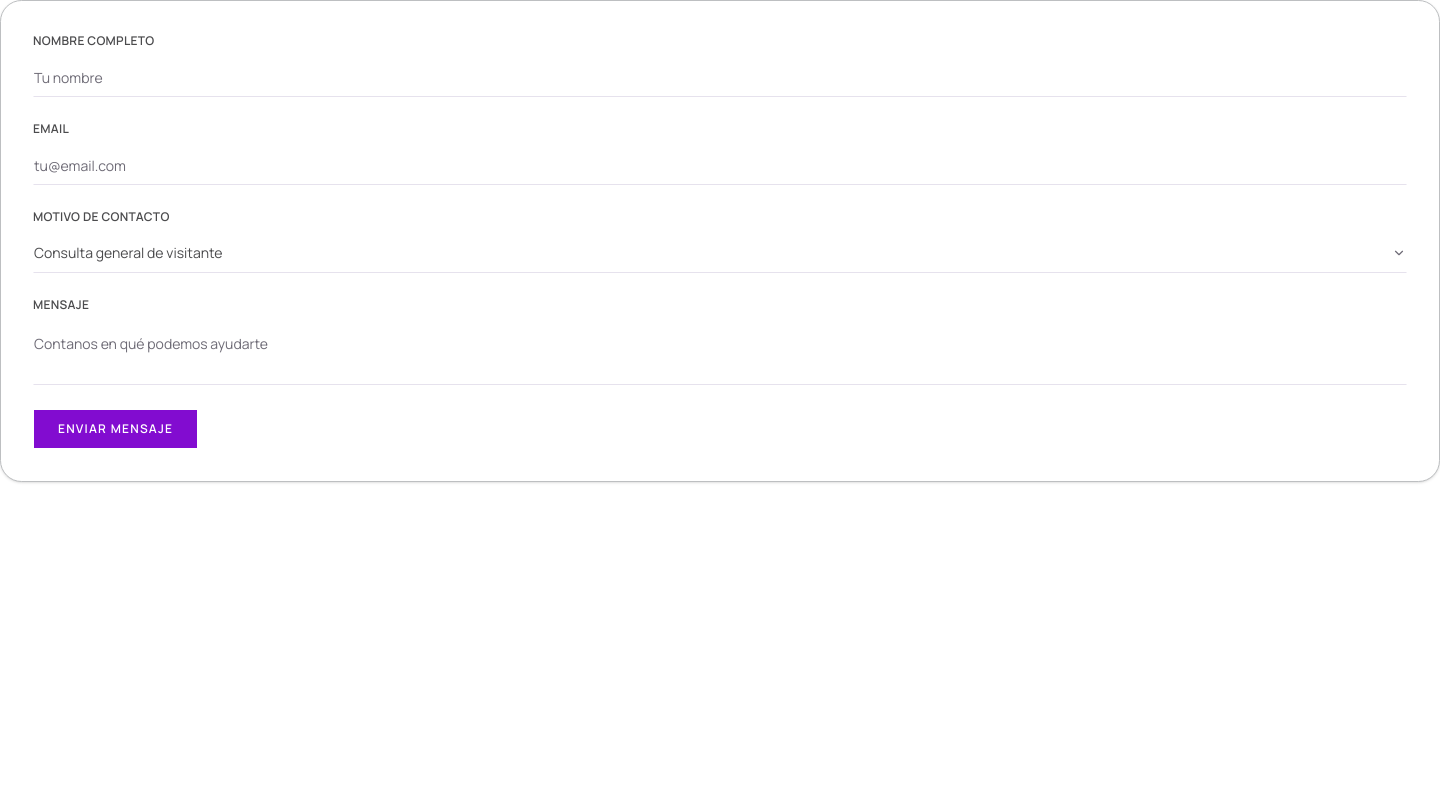
it: ContactForm › should display validation error messages when submitting empty form
Click the button "Enviar mensaje": [116, 429] box x1=33 y1=409 x2=198 y2=449
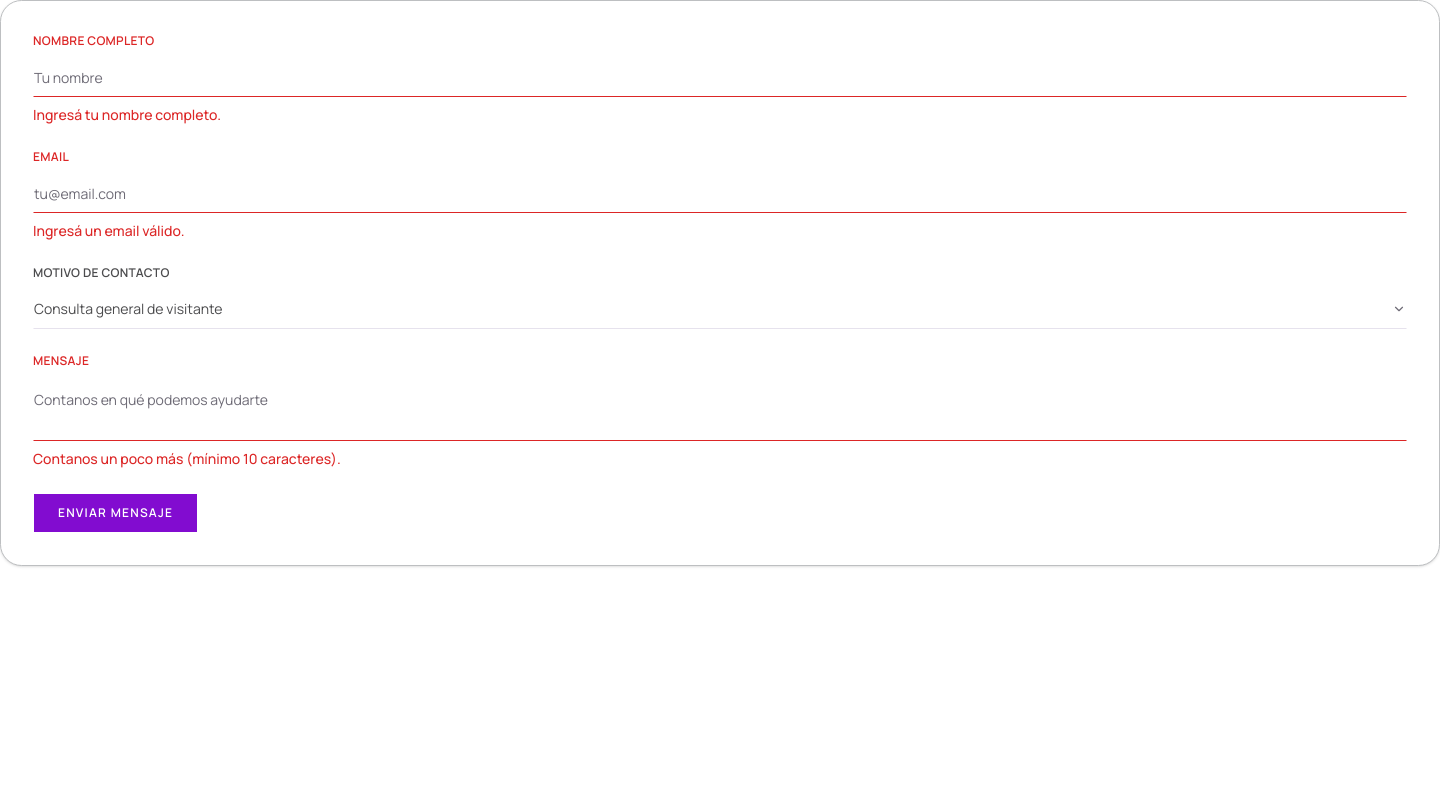
Expected: the text "Ingresá tu nombre completo." is shown, x1=33 y1=105 x2=221 y2=124
Expected: the text "Ingresá un email válido." is shown, x1=33 y1=221 x2=184 y2=240
Expected: the text "Contanos un poco más (mínimo 10 caracteres)." is shown, x1=33 y1=449 x2=341 y2=468
